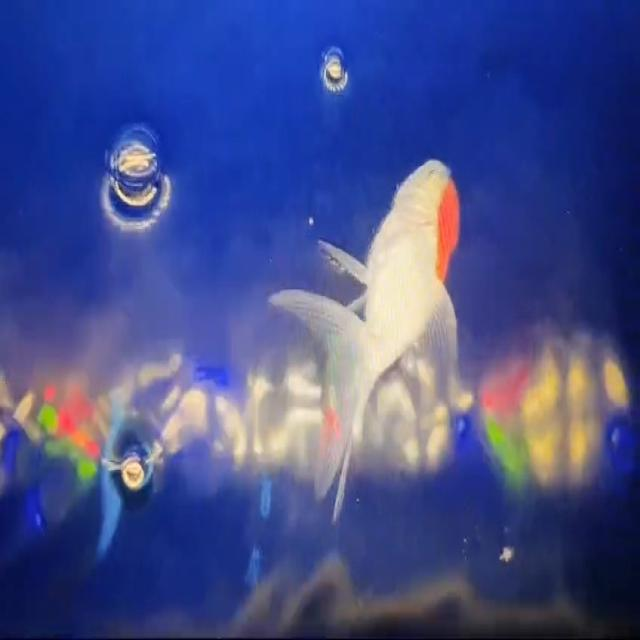fish: (270, 128, 462, 525)
